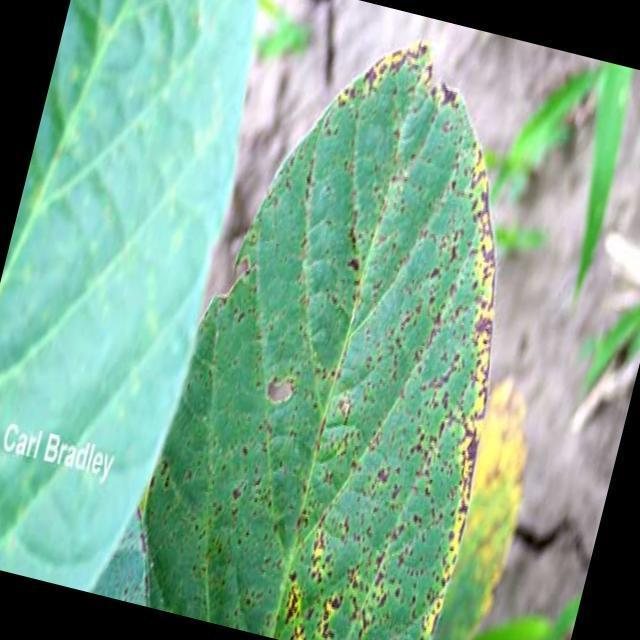Septoria: (131, 3, 573, 640)
